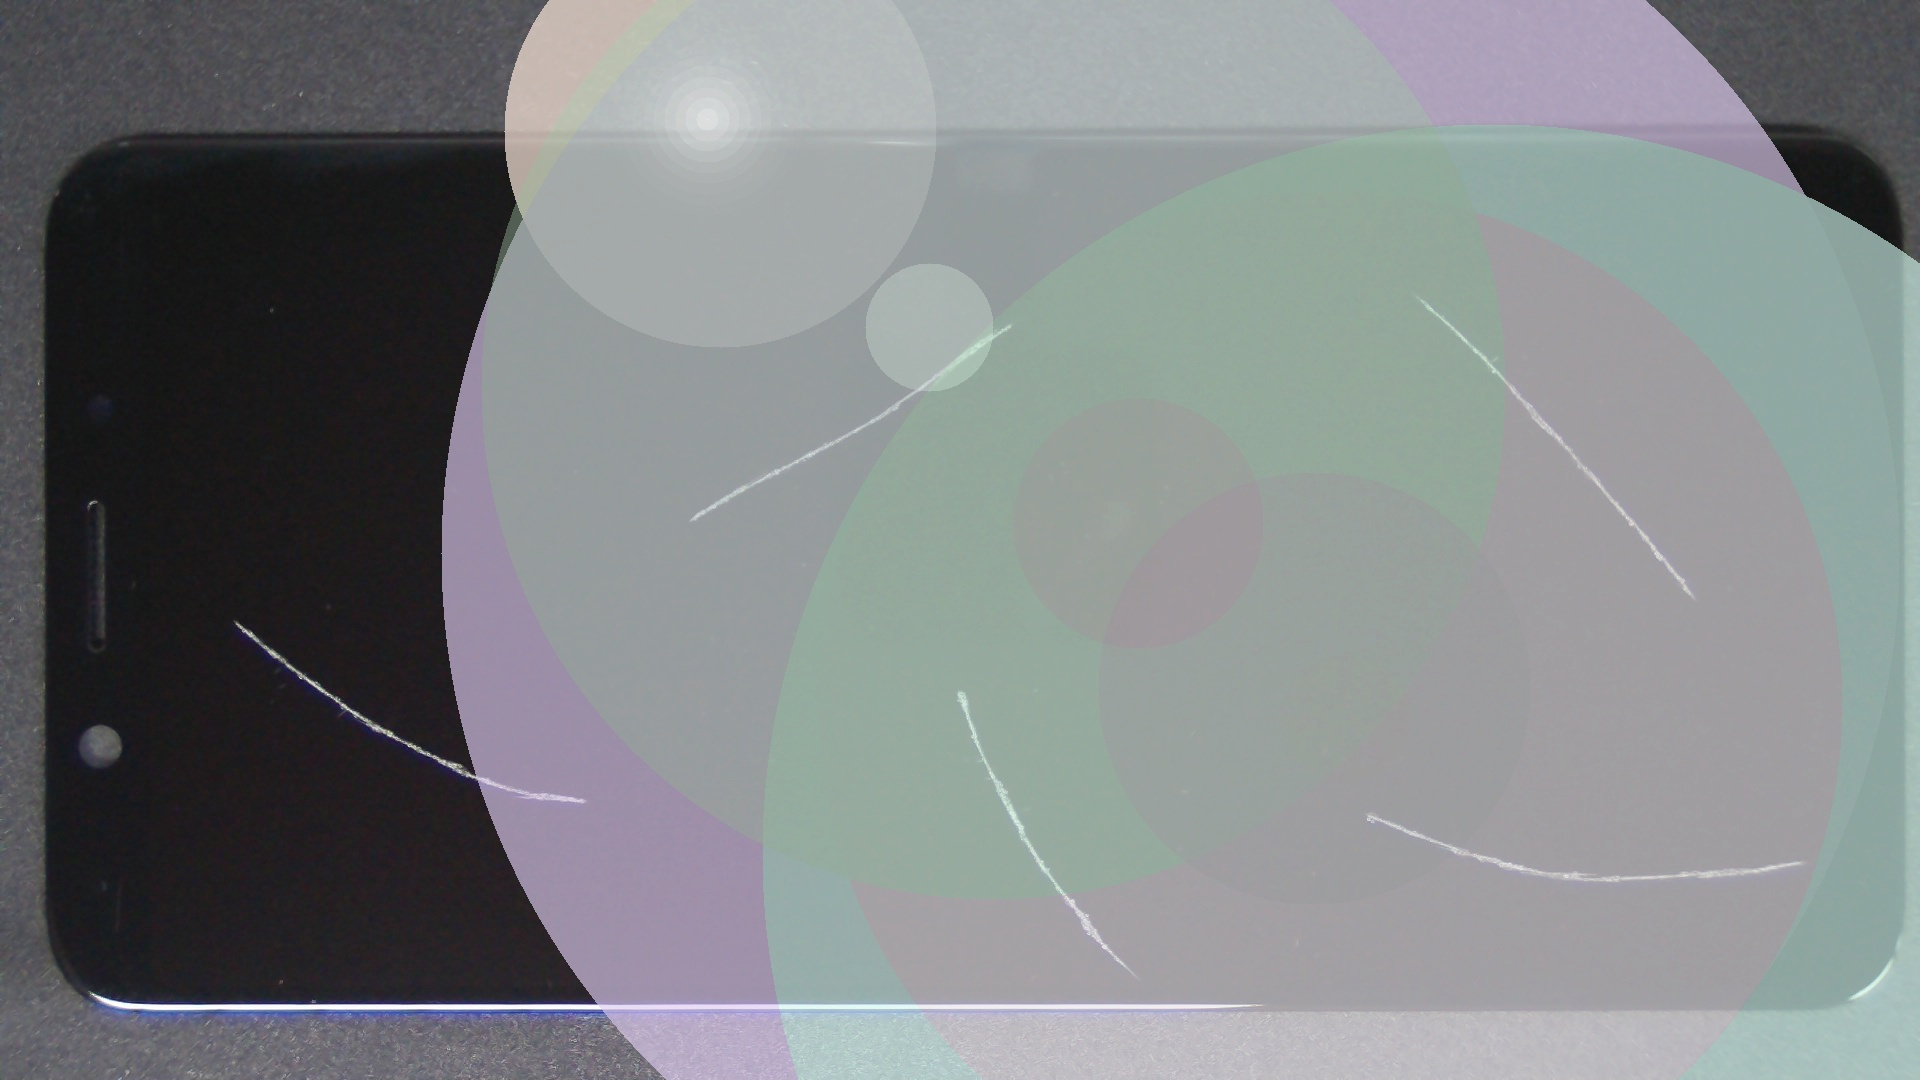oil: (684, 405, 1920, 1080), (481, 344, 1443, 1035), (703, 145, 1920, 443), (506, 161, 1516, 484), (103, 295, 365, 945)
